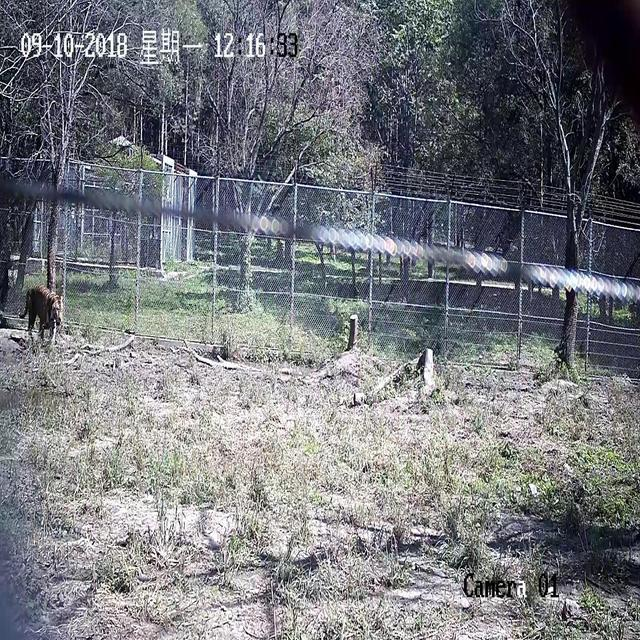tiger: (20, 284, 63, 344)
